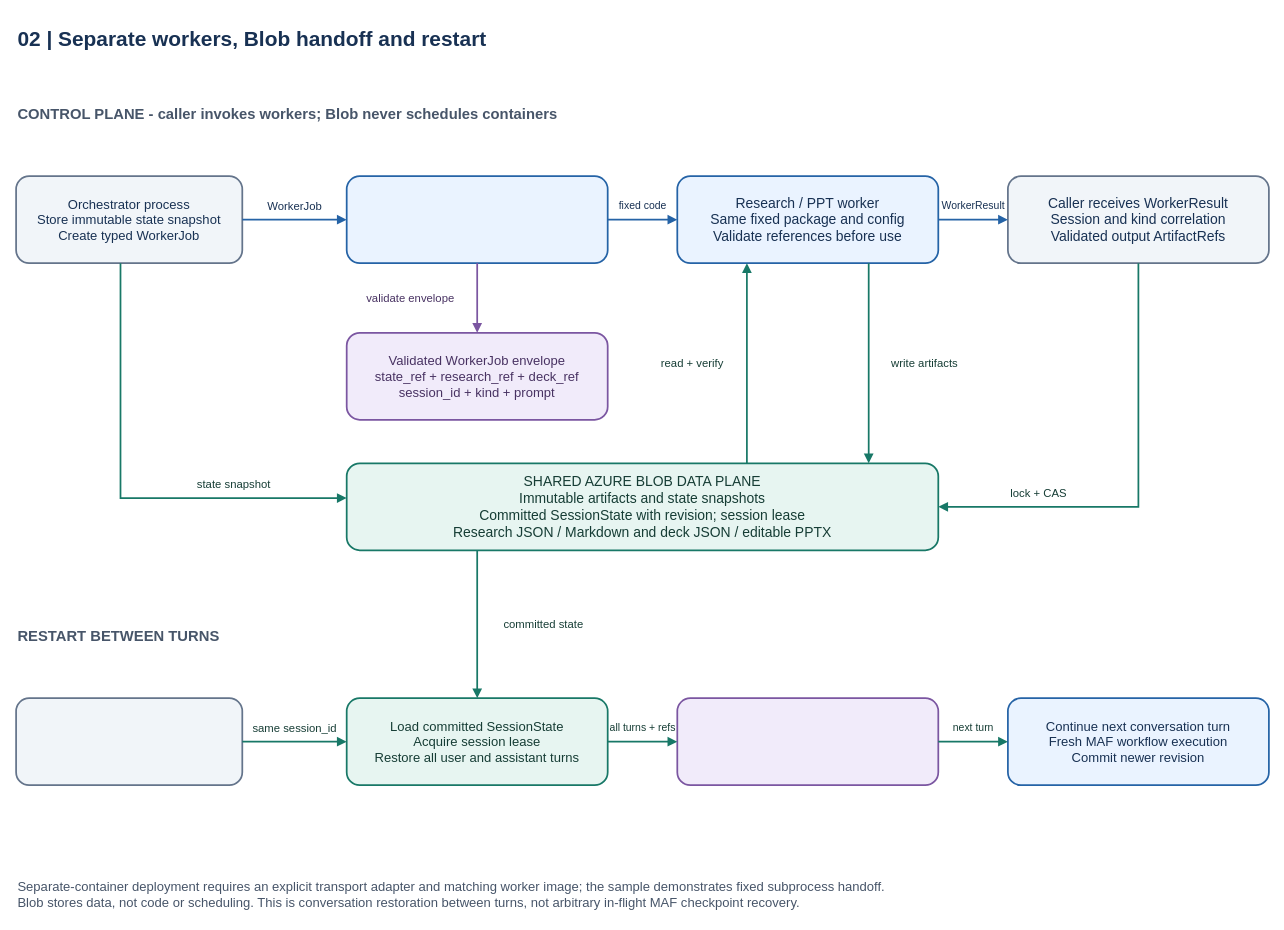
Some shapes in this 1284 by 930 pixel diagram are drawn without their labels. Each missing label, with the centre of its shape:
"Dispatch adapter In-process or fixed subprocess Control plane, not Blob" goes at point (476, 219).
"New process or container Same session_id and Blob config" goes at point (129, 741).
"Rehydrate artifact context Verify referenced JSON Latest research, deck and PPTX" goes at point (807, 741).
